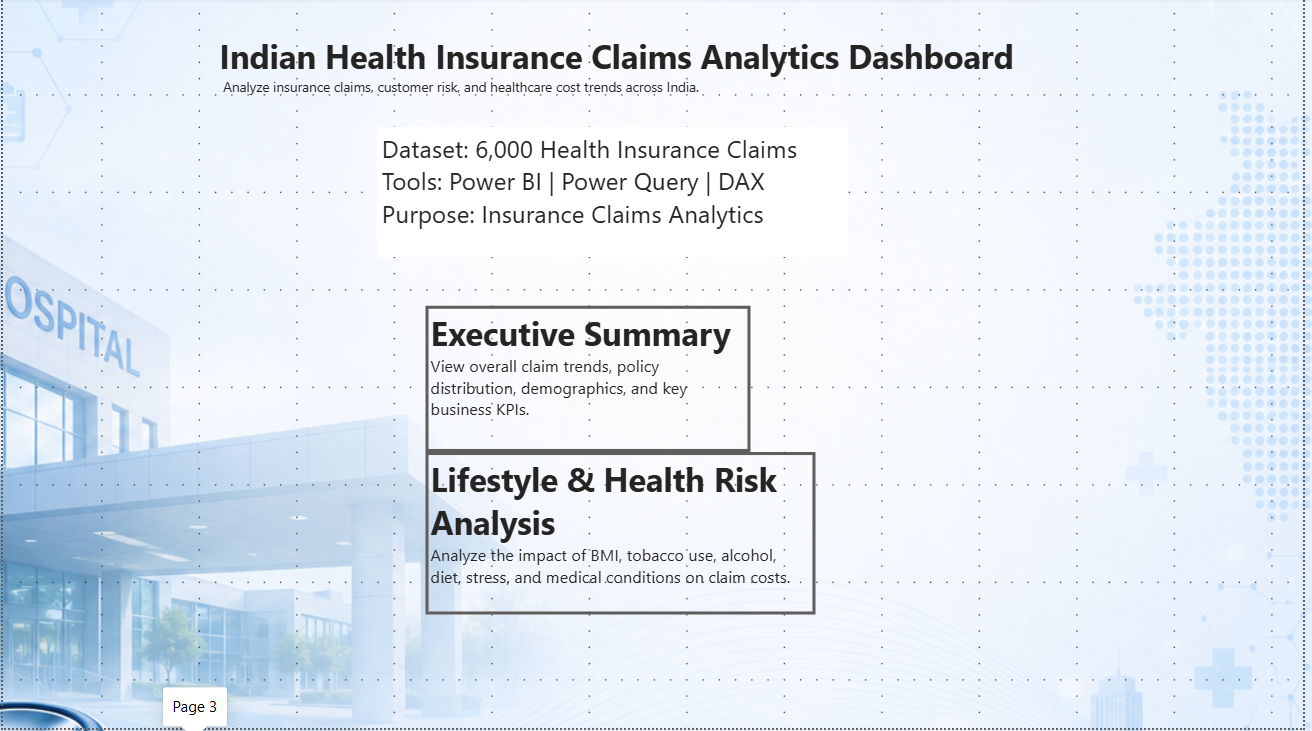

The page's visual inventory and layout, read from the dashboard file:
{"tool":"powerbi","page":{"name":"Page 3","canvas":[1280,720],"ordinal":2},"visuals":[{"type":"textbox","box":[0,0,688,64],"z":0}]}

Visuals, with their boxes on the page's 1280x720 design canvas (x1, y1, x2, y2). These are canvas units, not pixel positions in the 1312x731 screenshot, which may show the page scaled, cropped or inside an application window:
textbox: bbox(0, 0, 688, 64)
